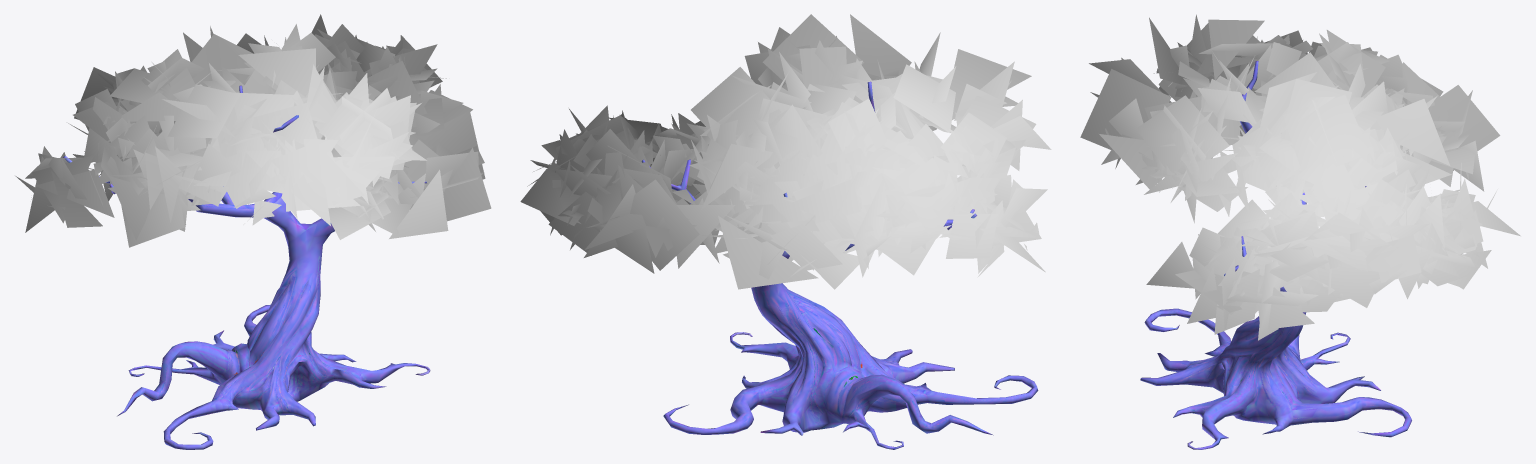
Rendered from m_TreeBig_LOD1.fbx.
3 views of the same model, side by side, from view 1: azimuth 30°, elevation 25°; view 2: azimuth 150°, elevation 25°; view 3: azimuth 270°, elevation 25° (orthographic). The views are drawn at different scales.
Visible parts, largest first — view 1: TreeBig_LOD1; view 2: TreeBig_LOD1; view 3: TreeBig_LOD1.
Boxes of the visible parts, left/top/right/bottom form: TreeBig_LOD1: left=15, top=14, right=491, bottom=449; TreeBig_LOD1: left=520, top=14, right=1051, bottom=449; TreeBig_LOD1: left=1080, top=14, right=1520, bottom=449.
Bounding box in the file's own units: 11694 × 8462 × 9657.
